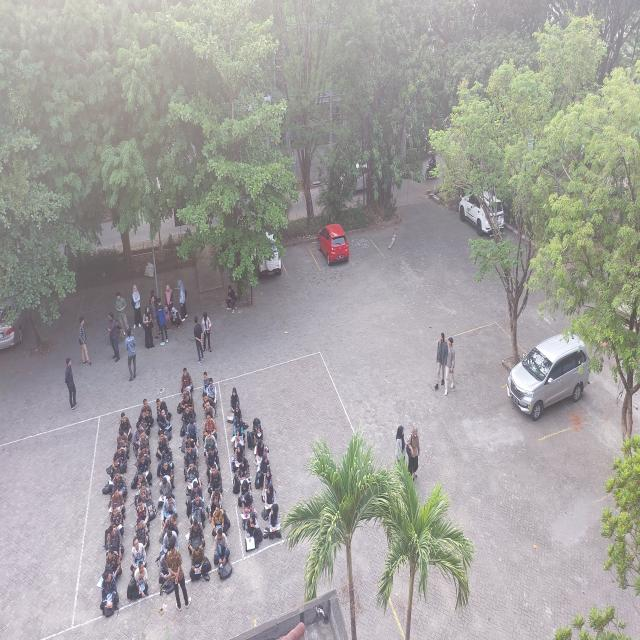empty: (453, 322, 525, 372), (278, 244, 321, 277), (346, 232, 385, 264)
occupied: (501, 369, 591, 441), (306, 224, 353, 271)
